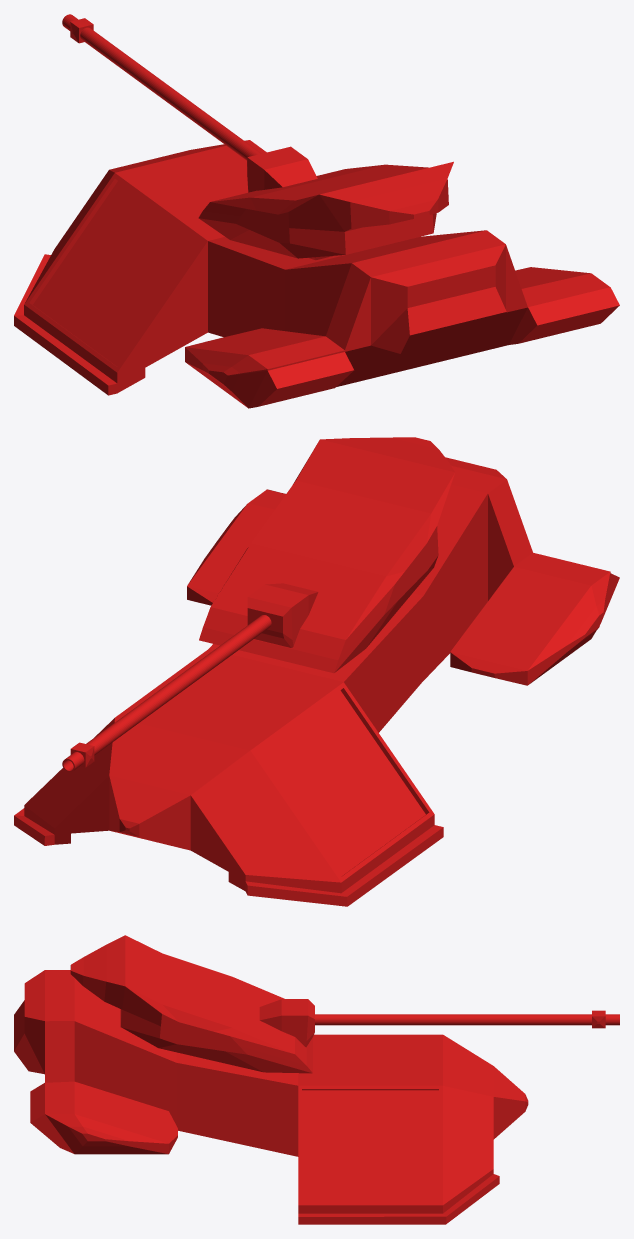
Rendered from hover tank 2.fbx.
3 renders of one model, top to bottom at view 1: azimuth 30°, elevation 25°; view 2: azimuth 150°, elevation 25°; view 3: azimuth 270°, elevation 25°, orthographic. The views are drawn at different scales.
Visible parts, largest first — view 1: Cube; view 2: Cube; view 3: Cube.
Boxes of the visible parts, left/top/right/bottom form: Cube: left=14, top=14, right=619, bottom=408; Cube: left=14, top=437, right=619, bottom=906; Cube: left=14, top=935, right=619, bottom=1224.
Size of the model in its own units: 5.49 by 3.65 by 10.
